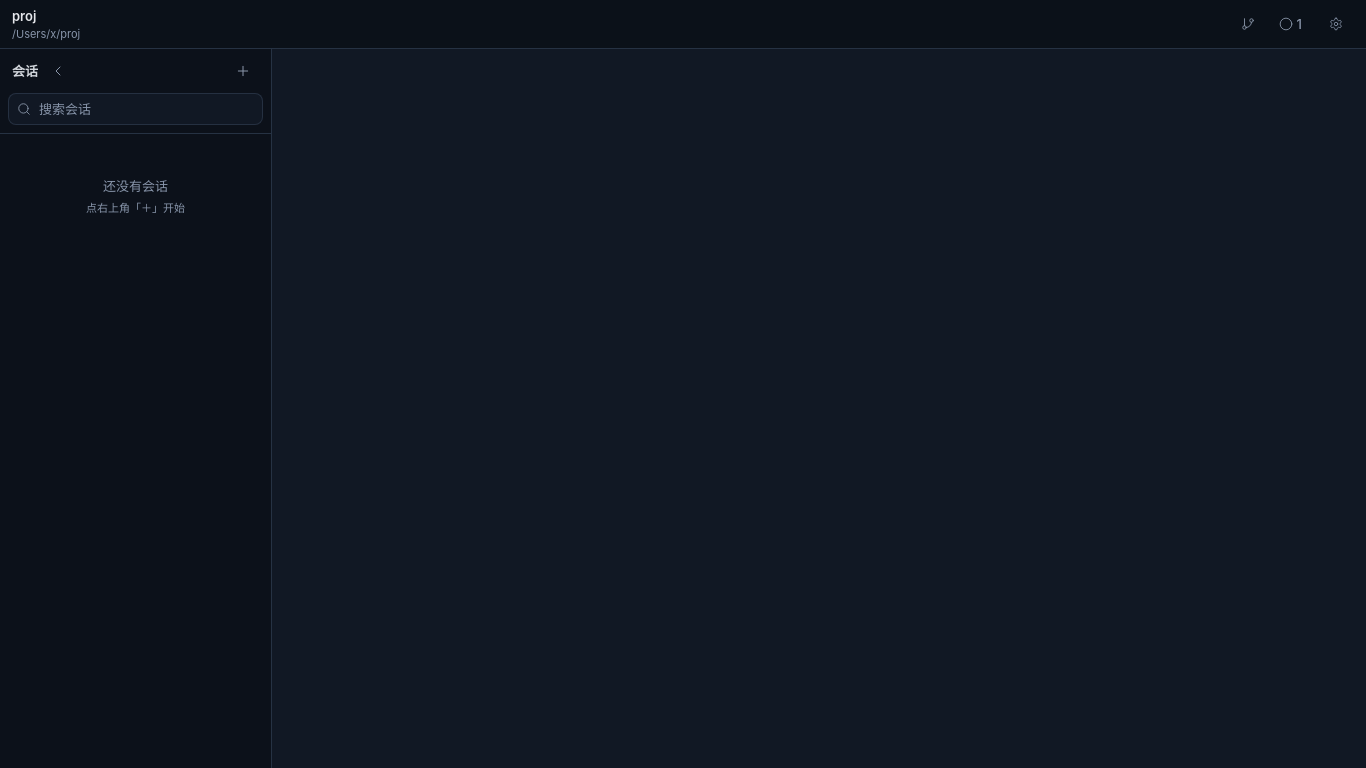
Test: session-native task delegation › shows pending-only tasks as informational activity without inventing a manual start action
Click the button named "打开任务活动".
click(1290, 24)  # box [1271,6,1310,42]
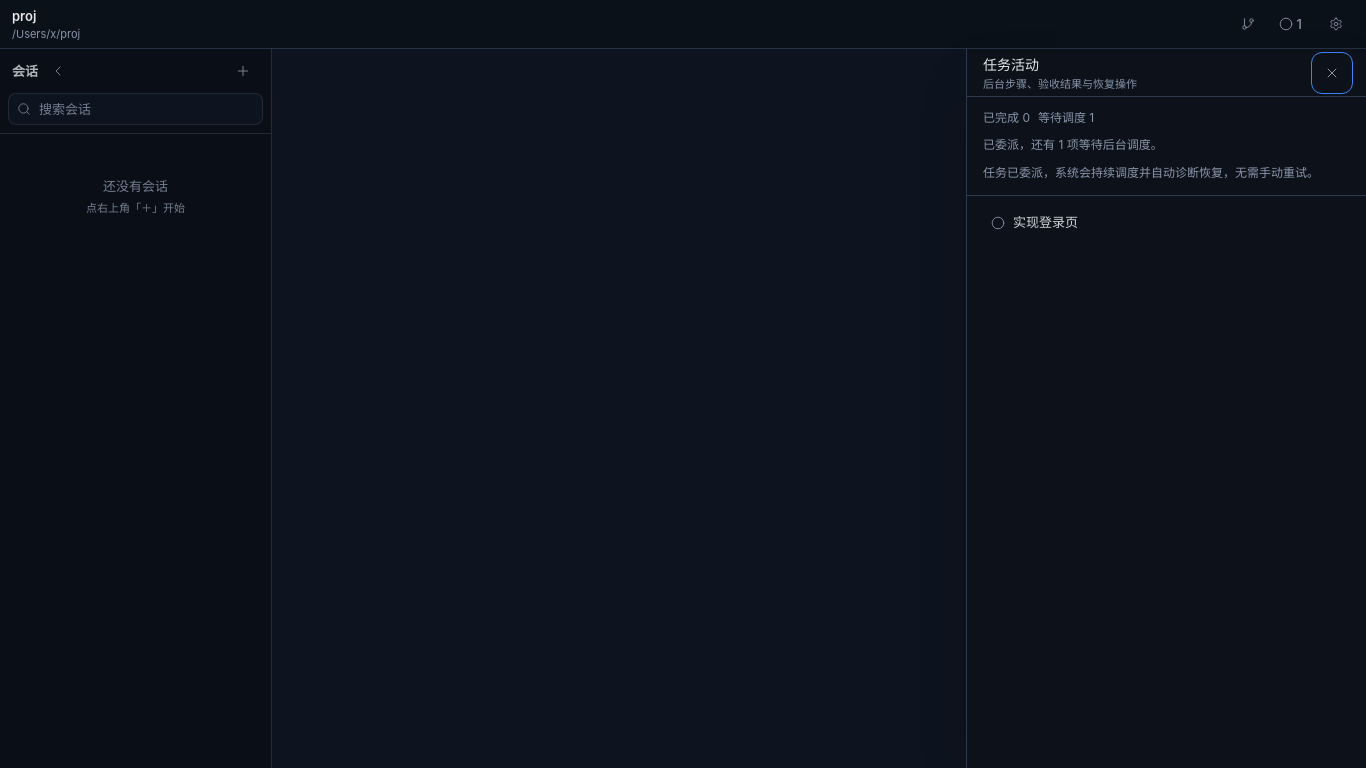
Expected: the text "已委派，还有 1 项等待后台调度。" is shown, [983,137,1163,152]
Expected: the text "任务已委派，系统会持续调度并自动诊断恢复，无需手动重试。" is shown, [983,163,1319,183]
